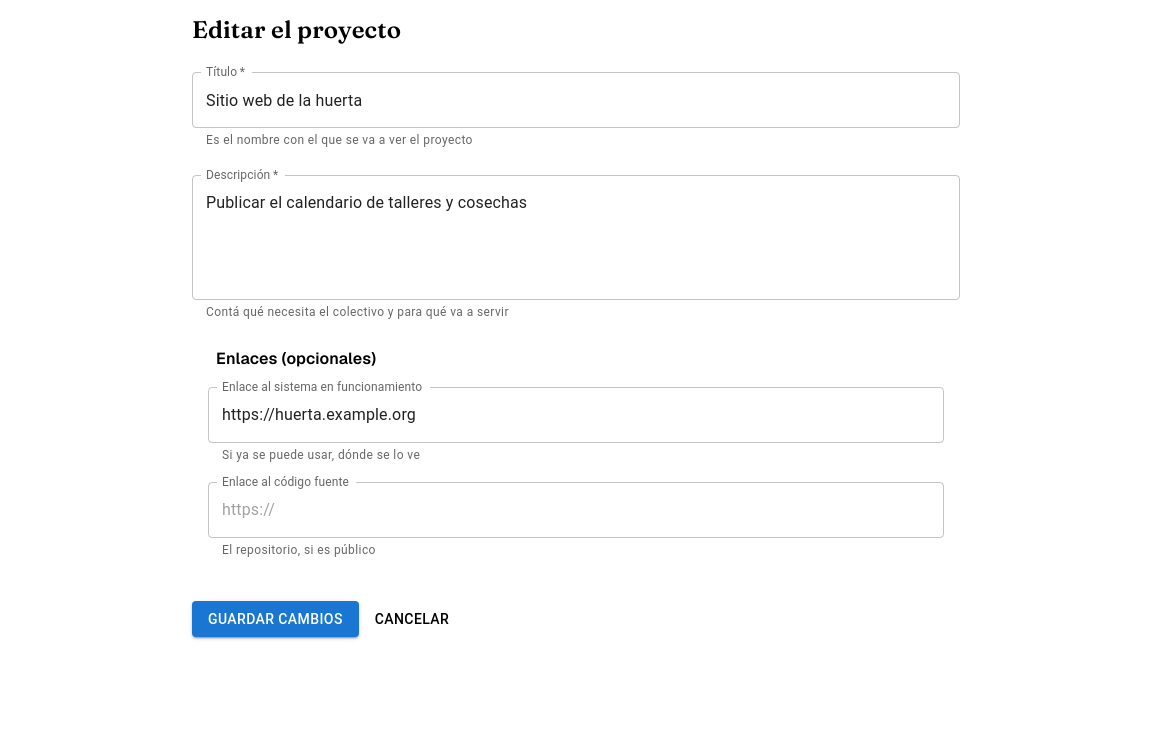
Test: EditarProyecto › un enlace que se vacía viaja como null para quitarlo
Clear the field labelled "Enlace al sistema en funcionamiento" at [576, 415], box [208,387,944,443]
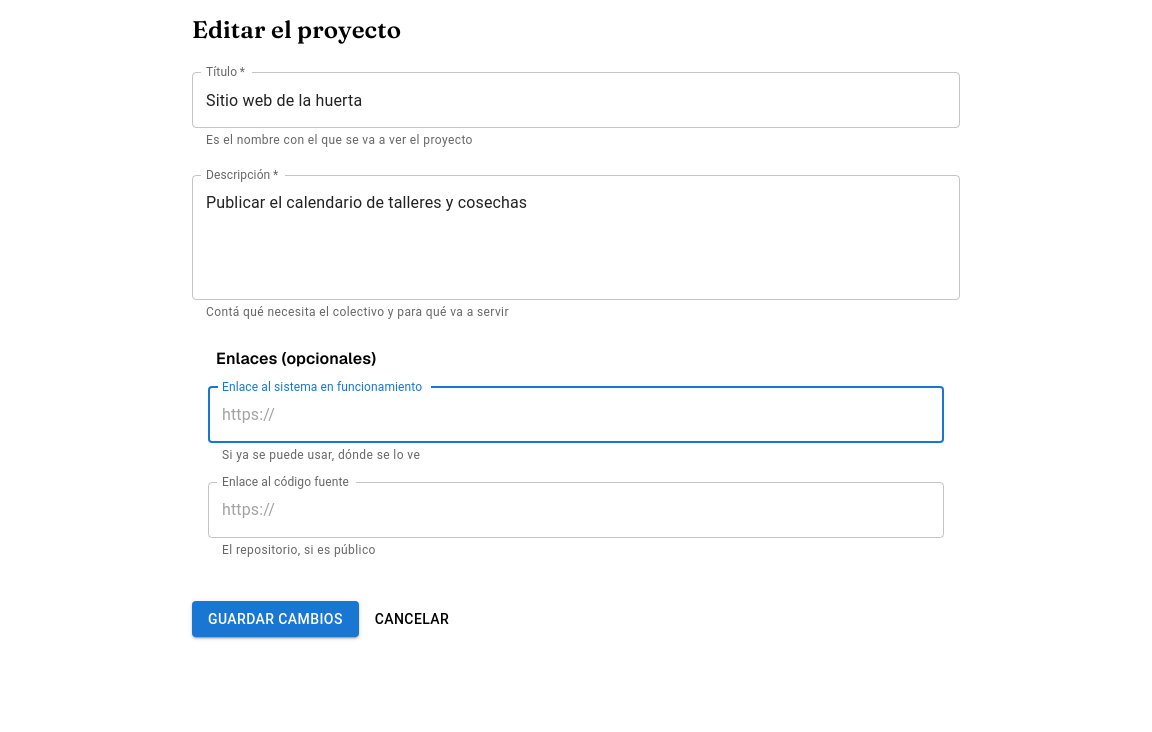
Click the button "Guardar cambios" at [275, 619], box [192,601,359,637]
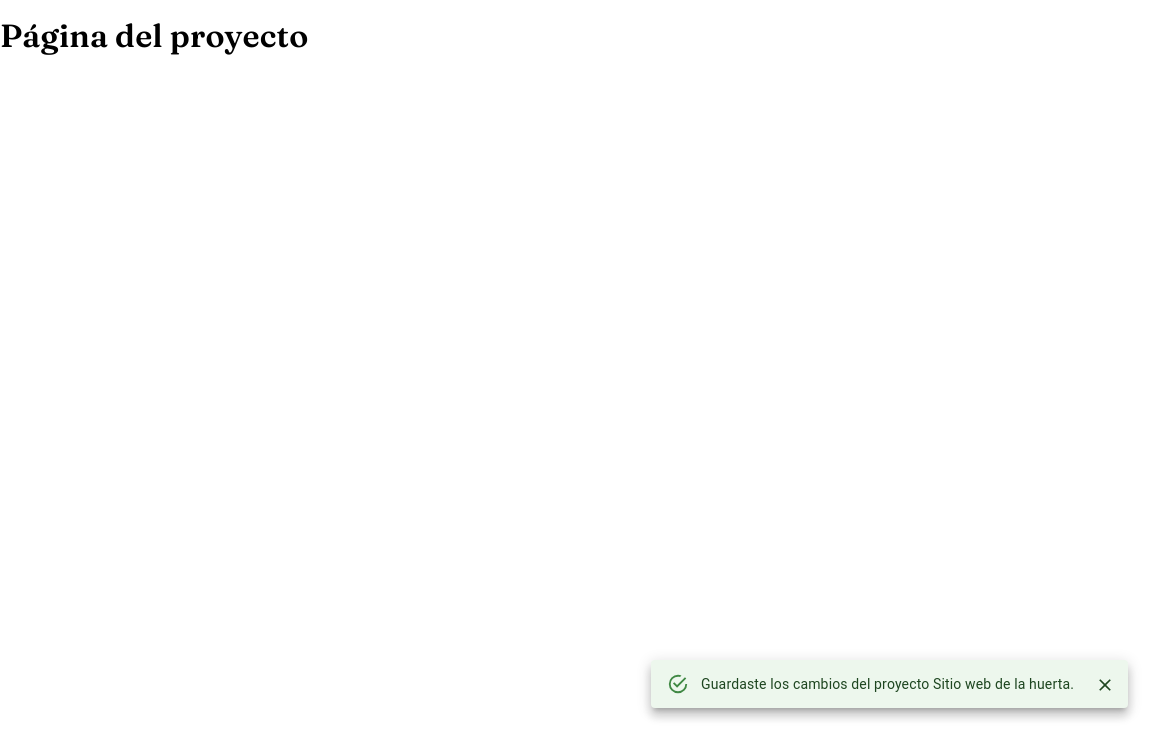
Check: the heading "Página del proyecto" is shown, box [0,16,308,55]
